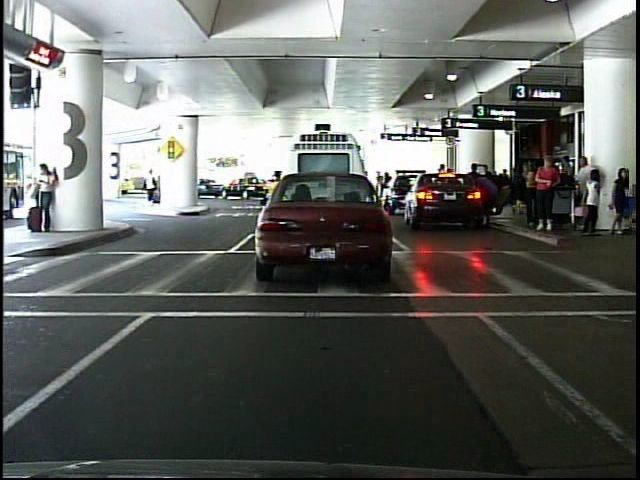person: (535, 151, 561, 235), (36, 160, 61, 234), (138, 163, 166, 207)
